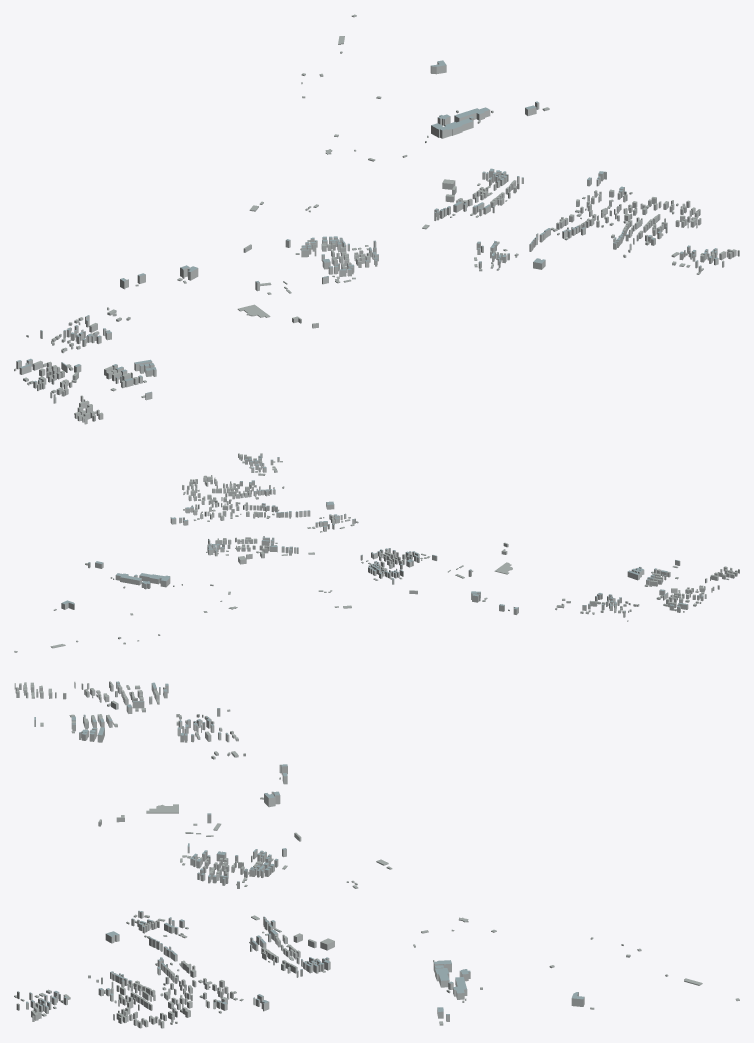
Rendered from far.glb.
3 views of the same model, one above another, from view 1: azimuth 30°, elevation 25°; view 2: azimuth 150°, elevation 25°; view 3: azimuth 270°, elevation 25° (orthographic). The views are drawn at different scales.
Bounding box in the file's own units: 2096 × 25.55 × 1882.
